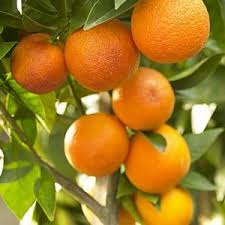orange: (61, 20, 140, 89), (128, 1, 211, 61), (125, 125, 192, 192), (61, 114, 128, 176), (112, 66, 177, 126), (6, 33, 68, 93), (133, 183, 195, 225)
